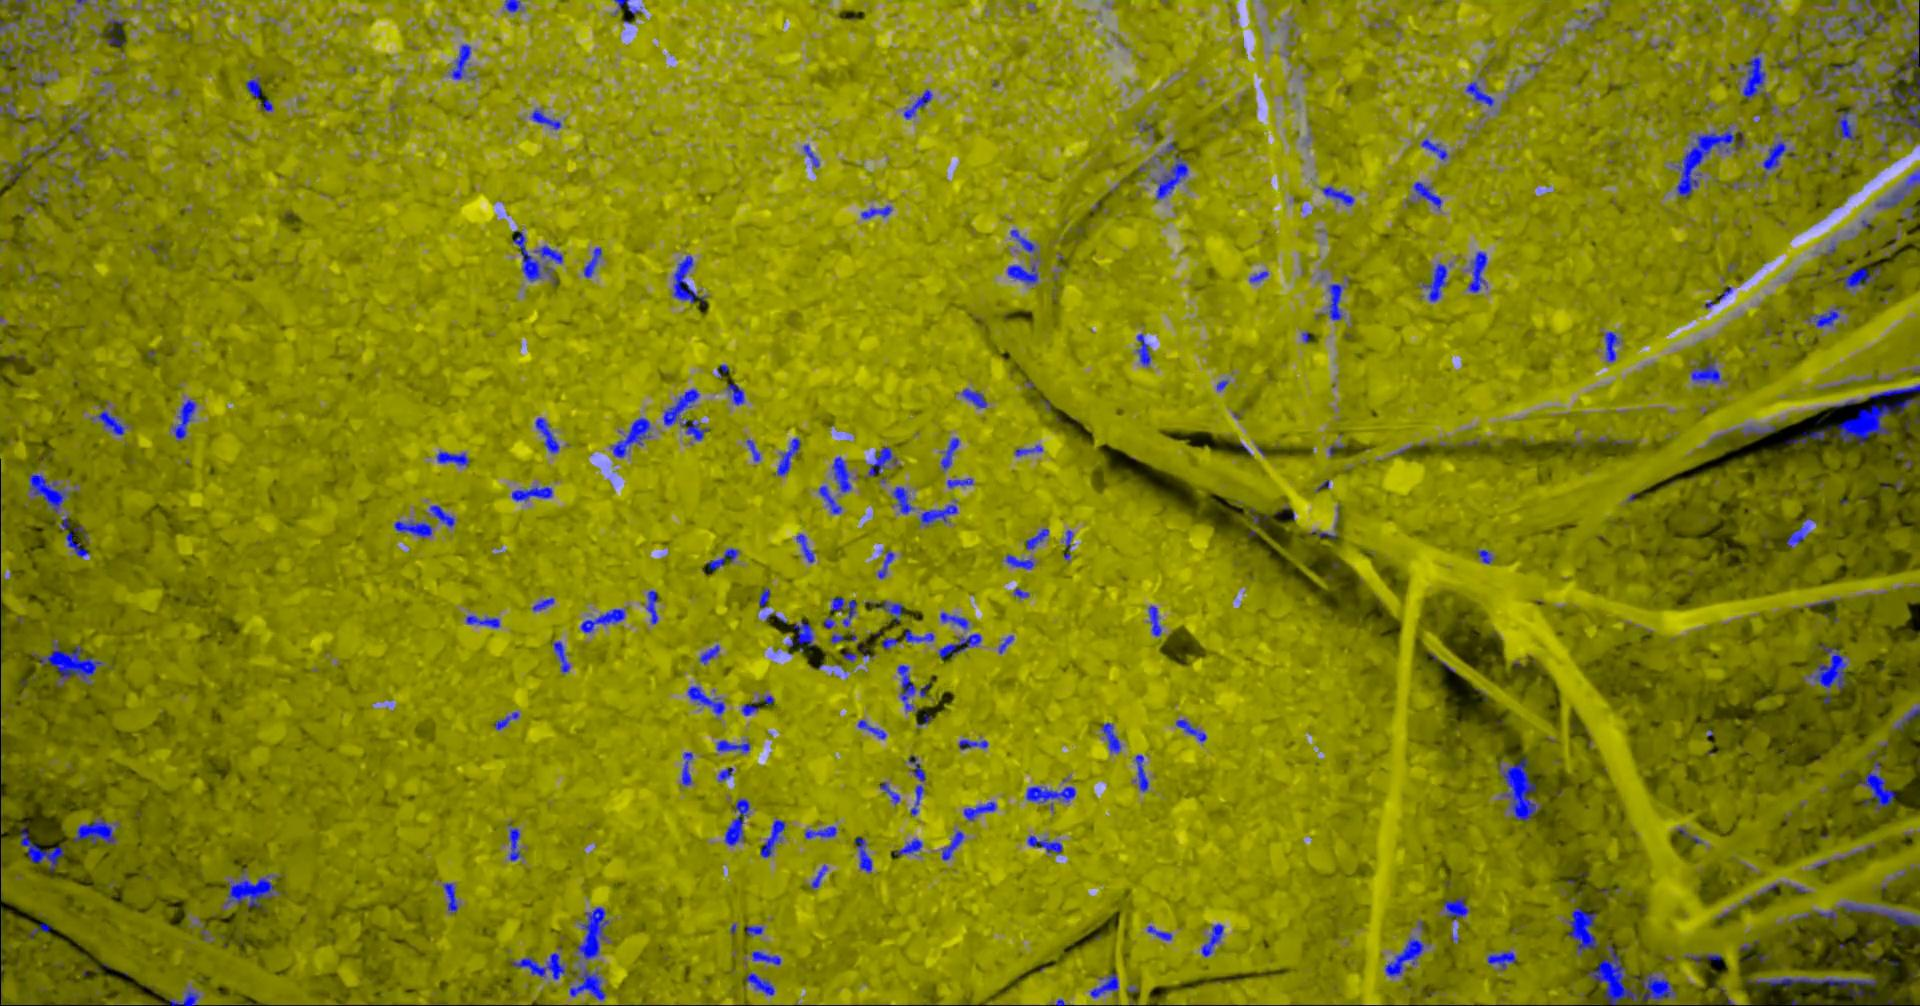ant: (1865, 72, 1919, 140), (1746, 976, 1876, 997), (662, 387, 709, 439), (223, 868, 284, 907), (1808, 643, 1848, 702), (1839, 902, 1919, 931), (1857, 760, 1896, 813), (19, 826, 65, 871), (512, 230, 552, 281), (28, 473, 69, 520), (577, 906, 608, 959), (610, 417, 650, 457), (1150, 155, 1187, 199), (1876, 170, 1919, 207), (897, 664, 930, 710), (1384, 937, 1423, 976), (1567, 907, 1597, 955), (1742, 48, 1769, 98), (1025, 785, 1076, 810), (58, 514, 88, 558), (72, 817, 119, 843), (672, 255, 697, 304), (1898, 11, 1919, 71), (724, 798, 749, 845), (938, 633, 982, 658), (687, 685, 724, 714), (863, 446, 897, 478), (1849, 0, 1883, 30), (1836, 265, 1879, 290), (580, 608, 623, 633), (1832, 105, 1858, 146), (1421, 263, 1448, 301), (908, 754, 924, 815), (171, 399, 196, 439), (775, 437, 800, 475), (919, 500, 957, 526), (759, 819, 785, 857), (91, 405, 124, 434), (1785, 424, 1830, 445), (1690, 353, 1719, 384), (1785, 517, 1815, 547), (535, 417, 559, 452), (903, 89, 931, 119), (1467, 250, 1487, 292), (1806, 305, 1843, 328), (1413, 180, 1441, 210), (829, 596, 856, 626), (789, 620, 814, 652), (1818, 58, 1859, 77), (1867, 384, 1919, 398), (706, 547, 738, 570), (450, 43, 470, 79), (1201, 923, 1223, 956), (1090, 972, 1117, 997), (1763, 140, 1785, 170), (530, 108, 561, 130), (742, 694, 773, 715), (1175, 719, 1206, 741), (830, 456, 850, 492), (392, 520, 430, 537), (1026, 835, 1062, 854), (1465, 81, 1493, 105), (745, 972, 775, 995), (1007, 263, 1037, 285), (941, 829, 963, 860), (1326, 283, 1343, 320), (510, 485, 552, 500), (818, 485, 841, 513), (891, 486, 914, 514), (940, 437, 959, 470), (963, 801, 996, 821), (1486, 950, 1516, 970), (1443, 895, 1468, 920), (1845, 11, 1868, 38), (1321, 185, 1352, 205), (1420, 138, 1448, 160), (857, 719, 886, 739), (551, 641, 569, 674), (855, 837, 871, 873), (1010, 229, 1035, 251), (1101, 721, 1120, 752), (877, 600, 902, 622), (1895, 706, 1919, 729), (429, 506, 455, 527), (583, 246, 601, 277), (613, 0, 641, 19), (795, 533, 814, 561), (442, 882, 458, 913), (533, 245, 563, 263), (1134, 754, 1148, 791), (507, 823, 521, 860), (436, 451, 469, 466), (891, 838, 922, 855), (1025, 527, 1048, 549), (879, 781, 899, 805), (960, 387, 985, 406), (168, 989, 199, 1005), (1603, 332, 1619, 361), (1004, 553, 1034, 569), (938, 612, 968, 629), (645, 589, 659, 624), (465, 614, 499, 627), (493, 711, 519, 729), (1683, 953, 1719, 965), (1137, 333, 1150, 366), (877, 550, 894, 578), (1887, 79, 1906, 103), (860, 205, 891, 218), (1147, 605, 1161, 636), (809, 864, 827, 888), (904, 627, 935, 641), (716, 739, 749, 752), (698, 644, 719, 664), (750, 950, 780, 964), (726, 382, 744, 405), (804, 826, 836, 838), (1677, 827, 1702, 843), (1740, 424, 1774, 436), (681, 751, 692, 785), (1145, 925, 1171, 940), (803, 144, 819, 166), (1062, 528, 1073, 561), (1813, 909, 1837, 925), (28, 922, 50, 937), (3, 97, 14, 124), (245, 77, 260, 98), (745, 439, 759, 461), (957, 739, 987, 749), (69, 124, 86, 141), (0, 44, 14, 65), (1015, 445, 1043, 455), (531, 597, 552, 610), (107, 18, 124, 33), (998, 635, 1013, 653), (758, 587, 770, 608), (946, 478, 973, 486), (1476, 549, 1492, 563), (504, 0, 523, 11), (1250, 271, 1269, 282), (717, 767, 733, 781), (1888, 0, 1903, 13), (881, 636, 897, 649), (745, 925, 763, 935), (1013, 587, 1029, 598), (829, 633, 844, 643), (0, 909, 3, 970), (259, 99, 272, 111), (0, 732, 1, 782)
